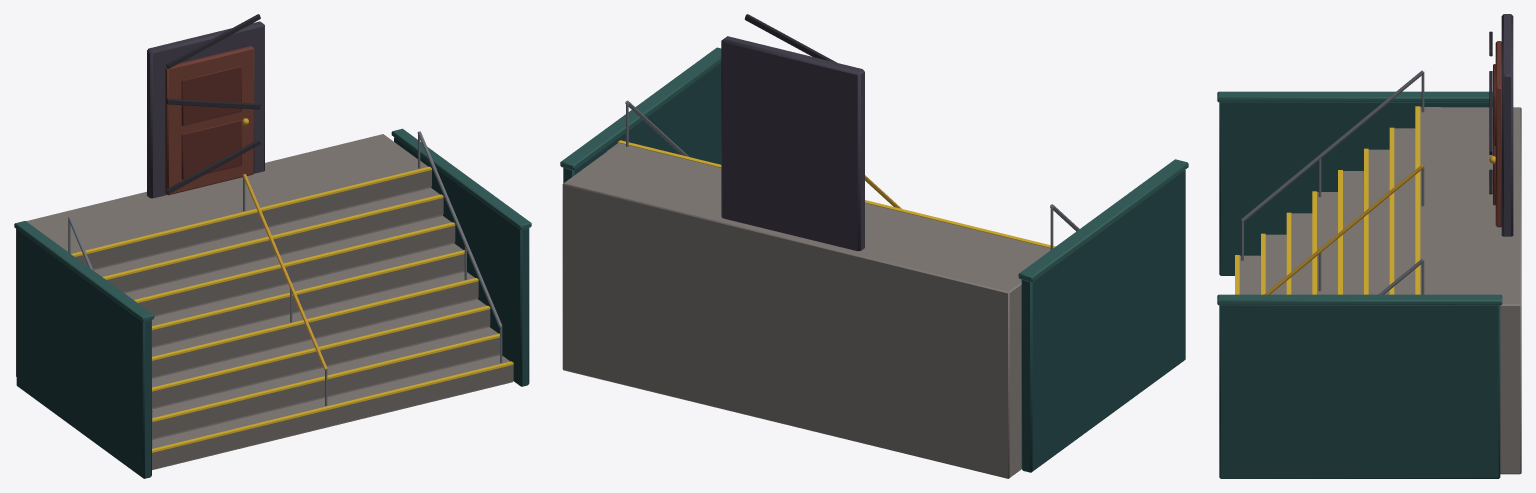
The model's file is arrival_stairs.glb.
3 renders of one model, left to right at view 1: azimuth 30°, elevation 25°; view 2: azimuth 150°, elevation 25°; view 3: azimuth 270°, elevation 25°, orthographic. The views are drawn at different scales.
Visible parts, largest first — view 1: arrival_stairs; view 2: arrival_stairs; view 3: arrival_stairs.
Boxes of the visible parts, bbox=[...] form: arrival_stairs: bbox=[14, 14, 531, 478]; arrival_stairs: bbox=[560, 14, 1188, 478]; arrival_stairs: bbox=[1217, 14, 1521, 478].
Bounding box in the file's own units: 8.46 × 6.58 × 5.19.
